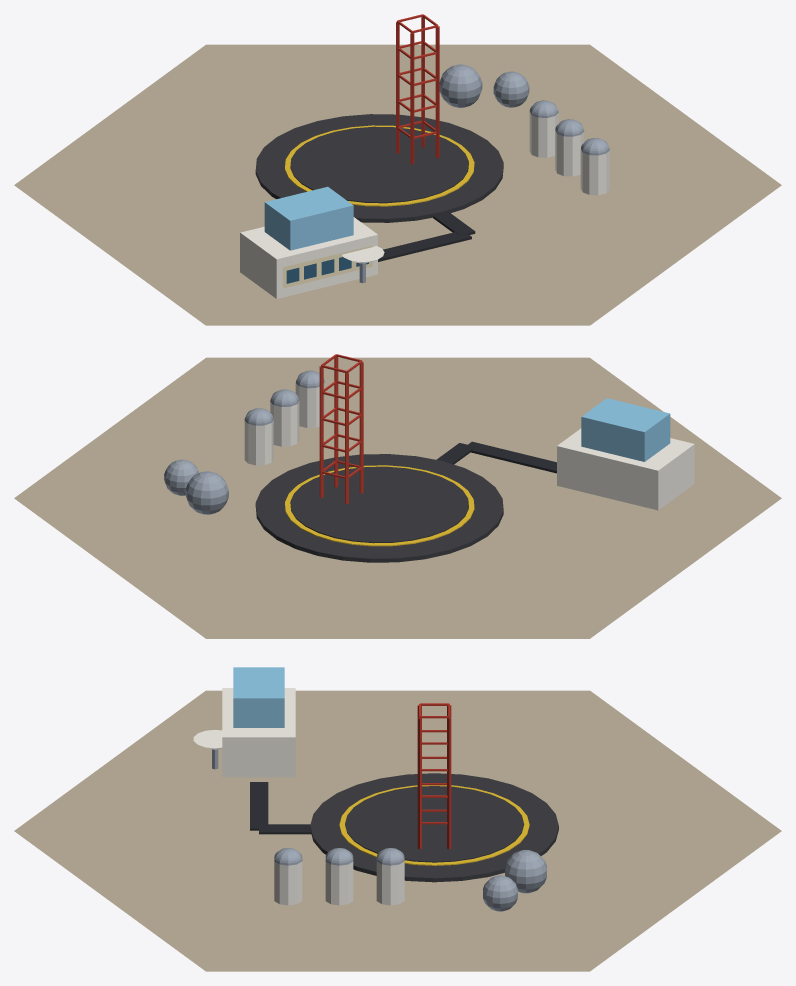
Rendered from district_spaceport_1.fbx.
3 renders of one model, top to bottom at view 1: azimuth 30°, elevation 25°; view 2: azimuth 150°, elevation 25°; view 3: azimuth 270°, elevation 25°, orthographic.
Visible parts, largest first — view 1: district_spaceport_1; view 2: district_spaceport_1; view 3: district_spaceport_1.
Part boxes in pixels (box(x1,y1,x2,y2)): district_spaceport_1: box(14, 14, 781, 325); district_spaceport_1: box(14, 354, 781, 638); district_spaceport_1: box(14, 667, 781, 971).
Size of the model in its own units: 182 by 42.1 by 210.
